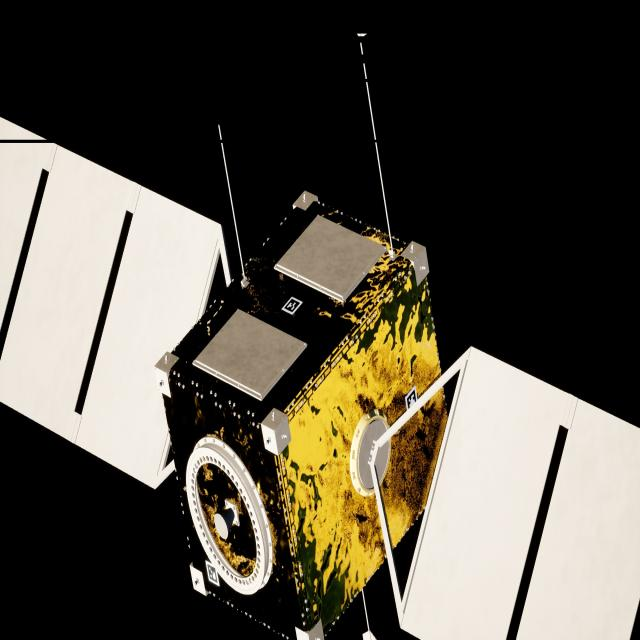medium_debris: (0, 119, 640, 640)
